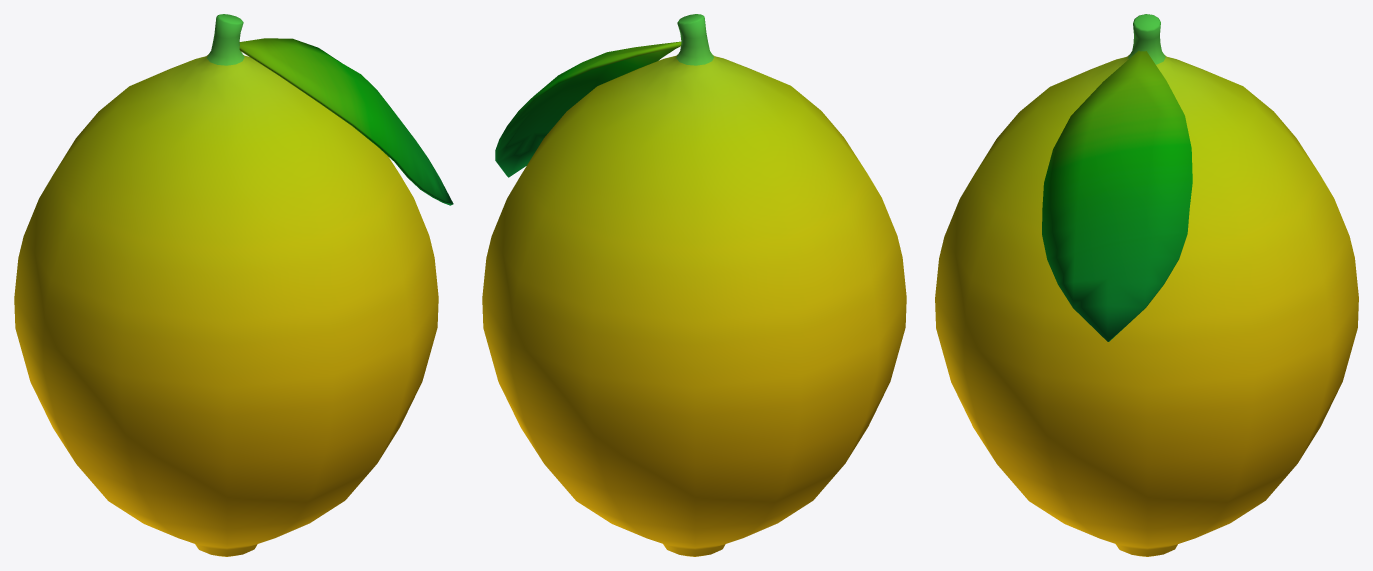
Rendered from Lemon.fbx.
The picture shows the model from 3 angles, left to right: view 1: azimuth 30°, elevation 25°; view 2: azimuth 150°, elevation 25°; view 3: azimuth 270°, elevation 25°; orthographic projection.
Parts seen in each view (by area): view 1: Lemon; view 2: Lemon; view 3: Lemon.
Boxes of the visible parts, x1=… form: Lemon: x1=14, y1=14, x2=453, y2=556; Lemon: x1=482, y1=14, x2=906, y2=556; Lemon: x1=935, y1=14, x2=1358, y2=556.
Bounding box in the file's own units: 113 × 147 × 106.
